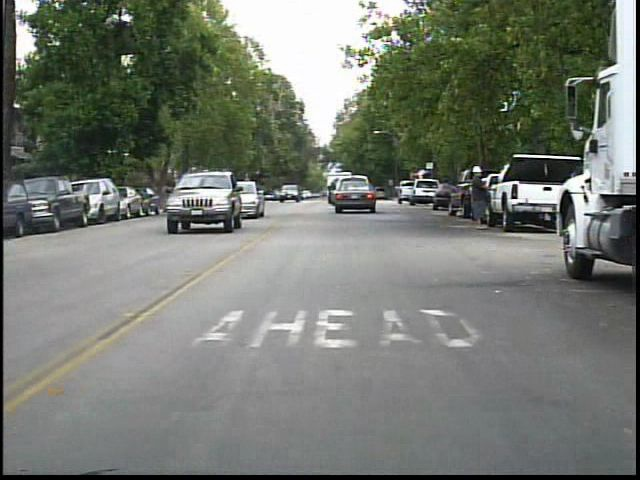person: (464, 162, 495, 233)
